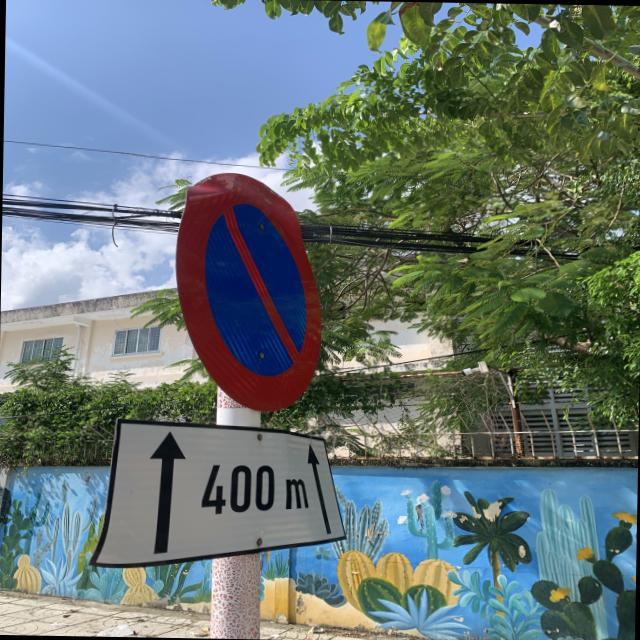Cam_Dau_Xe: (170, 172, 331, 414)
